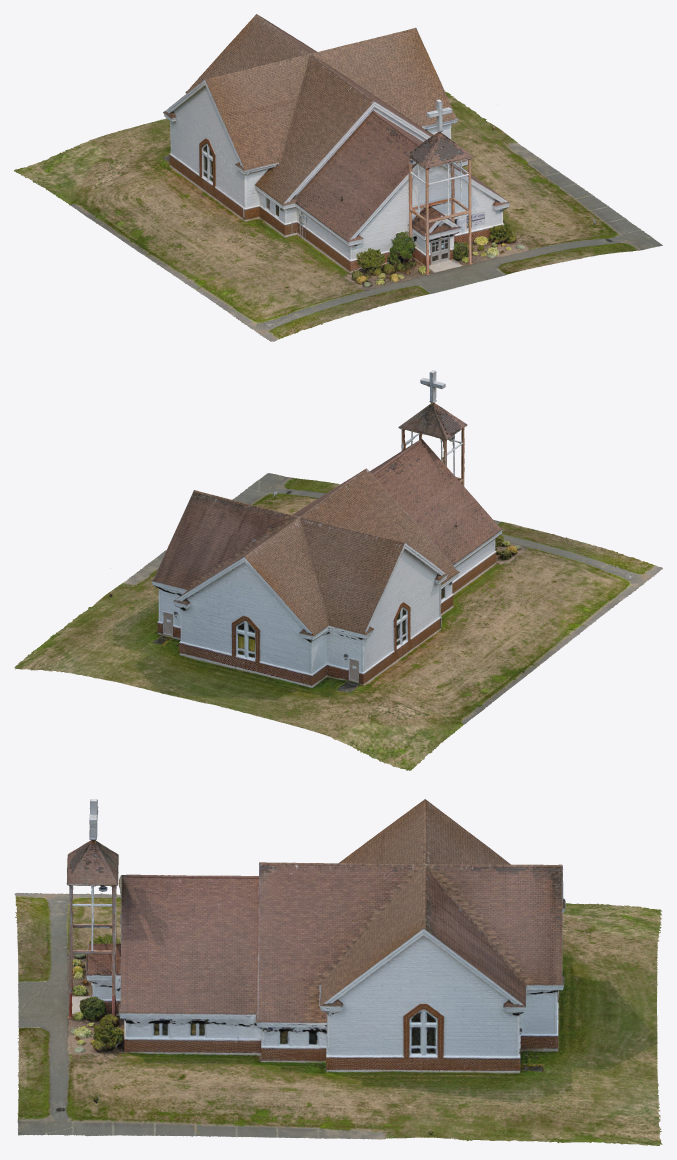
File: churchroom.glb
3 views of the same model, one above another, from view 1: azimuth 30°, elevation 25°; view 2: azimuth 150°, elevation 25°; view 3: azimuth 270°, elevation 25° (orthographic). The views are drawn at different scales.
Visible parts, largest first — view 1: Object_2; view 2: Object_2; view 3: Object_2.
Boxes of the visible parts, bbox=[...] form: Object_2: bbox=[14, 14, 662, 341]; Object_2: bbox=[14, 370, 662, 770]; Object_2: bbox=[14, 799, 662, 1145].
Bounding box in the file's own units: 38.68 × 17.13 × 43.09.
Materials: 1 (1 with a texture image).
